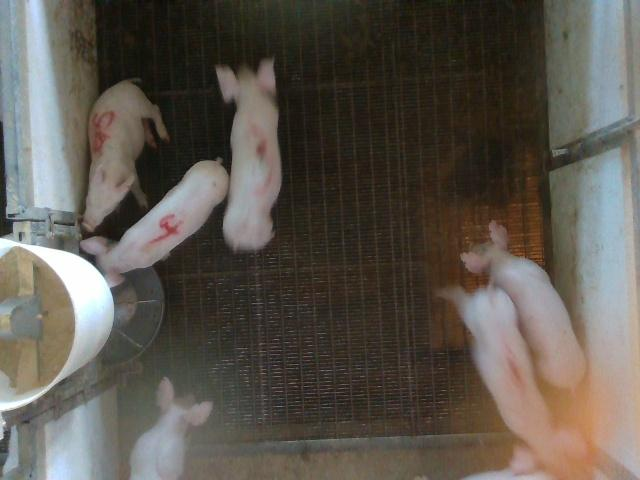pig-1: (442, 285, 585, 476)
pig-3: (216, 59, 281, 251)
pig-4: (80, 161, 229, 286)
pig-5: (82, 79, 170, 231)
